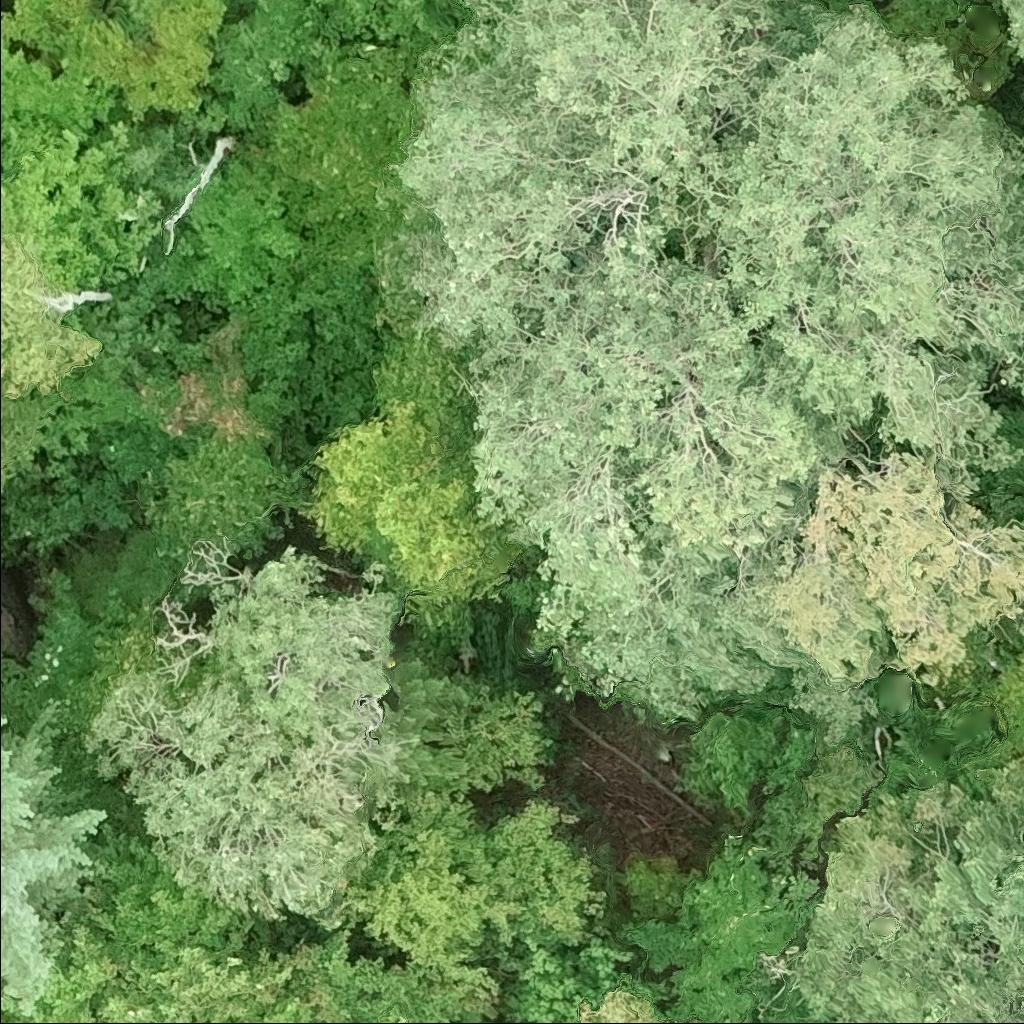crown: (85, 544, 416, 920), (306, 788, 610, 1021), (793, 760, 1023, 1023), (621, 840, 823, 1023), (0, 696, 110, 1018), (97, 932, 473, 1023), (503, 937, 669, 1023), (376, 643, 470, 789), (962, 627, 1023, 768), (579, 991, 667, 1023), (982, 459, 1023, 521), (1008, 405, 1023, 449), (381, 1005, 410, 1023), (0, 710, 15, 735)
